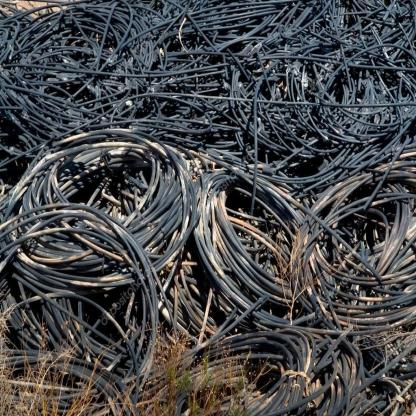wires: (1, 0, 415, 414)
